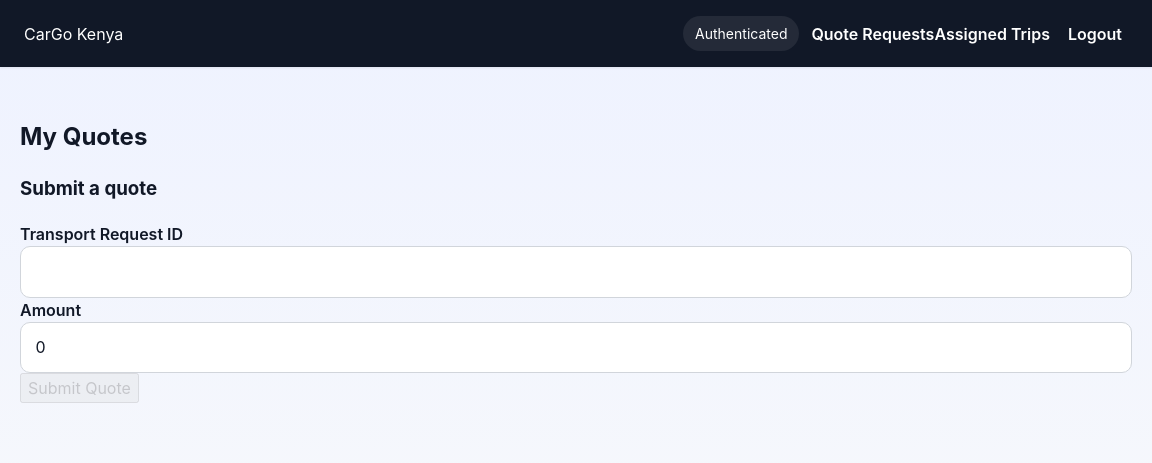
driver frontend workflows › submits a quote from the driver requests page
The image size is (1152, 463).
expect the heading "My Quotes" is shown: met, box top-left (20, 122), bottom-right (147, 151)
In the field labelled "Transport Request ID": (576,272) top-left (20, 246), bottom-right (1132, 298), type "req-1"
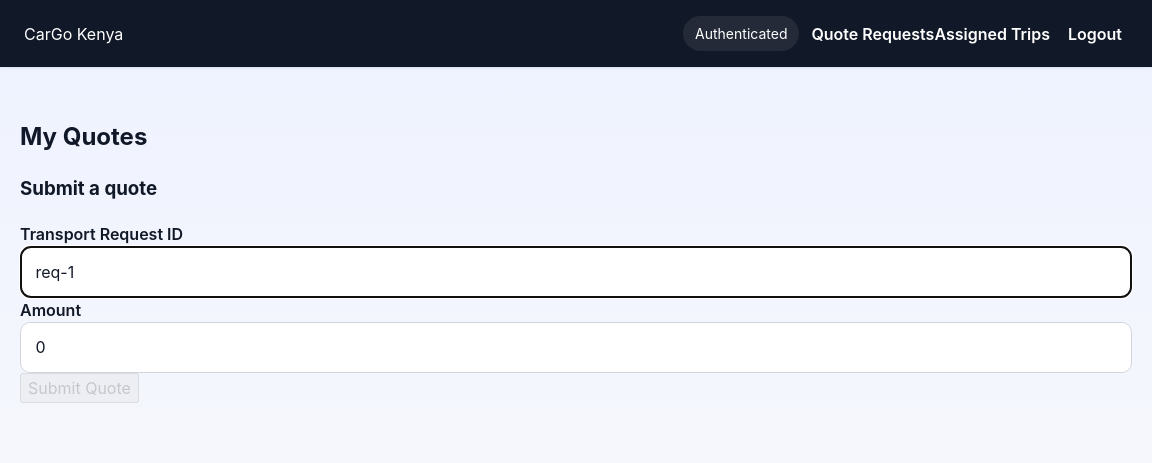
In the number field labelled "Amount": (576,347) top-left (20, 322), bottom-right (1132, 373), type "3000"
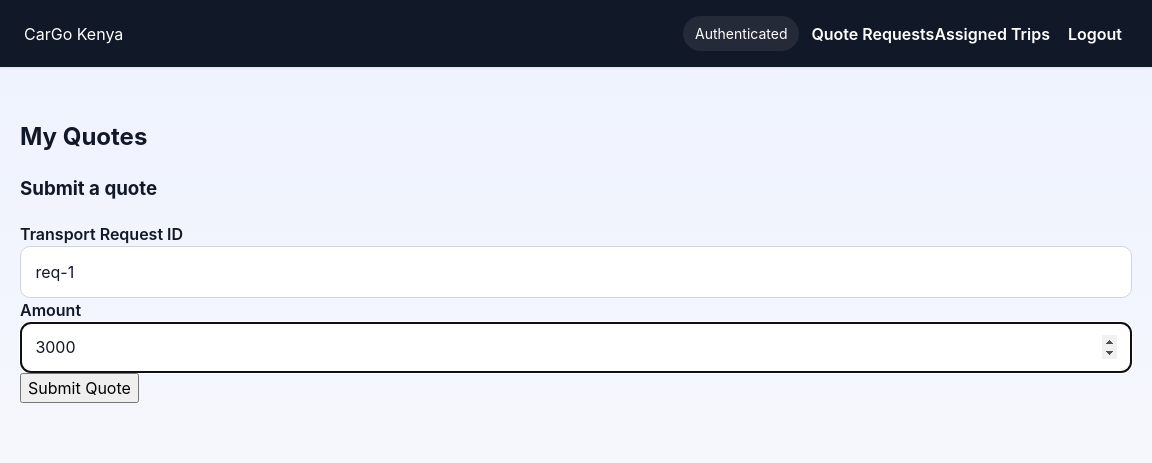
Click the button "Submit Quote": (79,388) top-left (20, 373), bottom-right (139, 403)
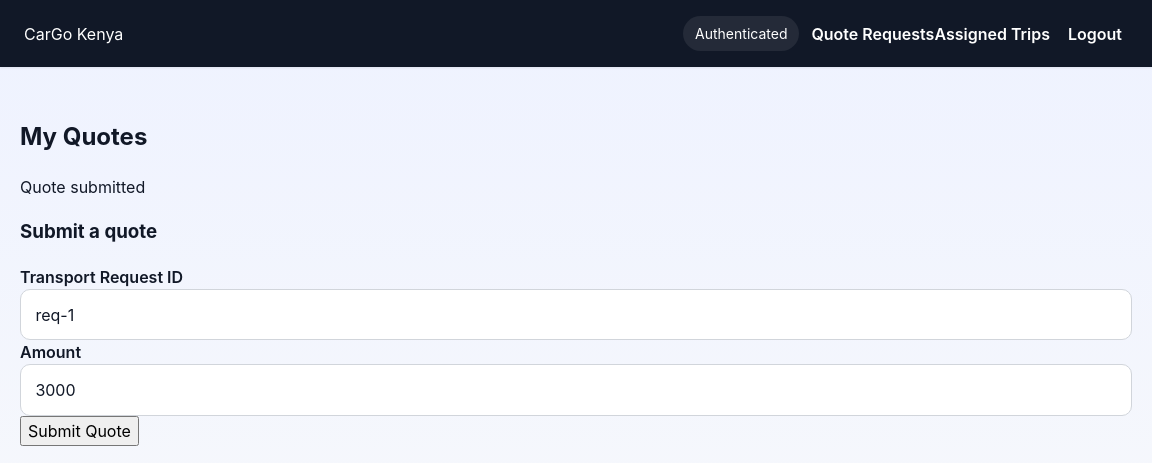
expect the text "Quote submitted" is shown: met, box top-left (20, 177), bottom-right (145, 197)
